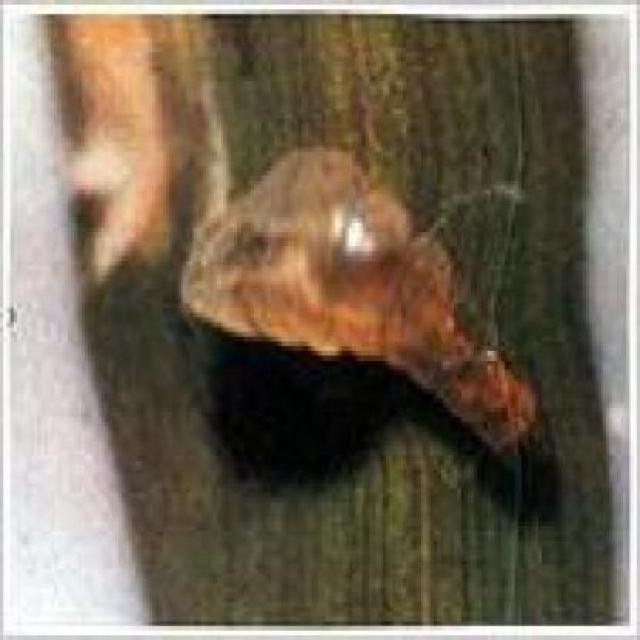whorl-maggot: (179, 144, 540, 453)
